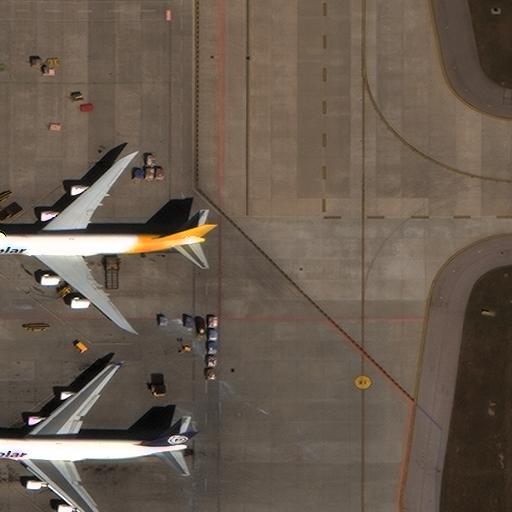Large Civil Transport: (0, 155, 205, 329), (0, 365, 187, 512)
